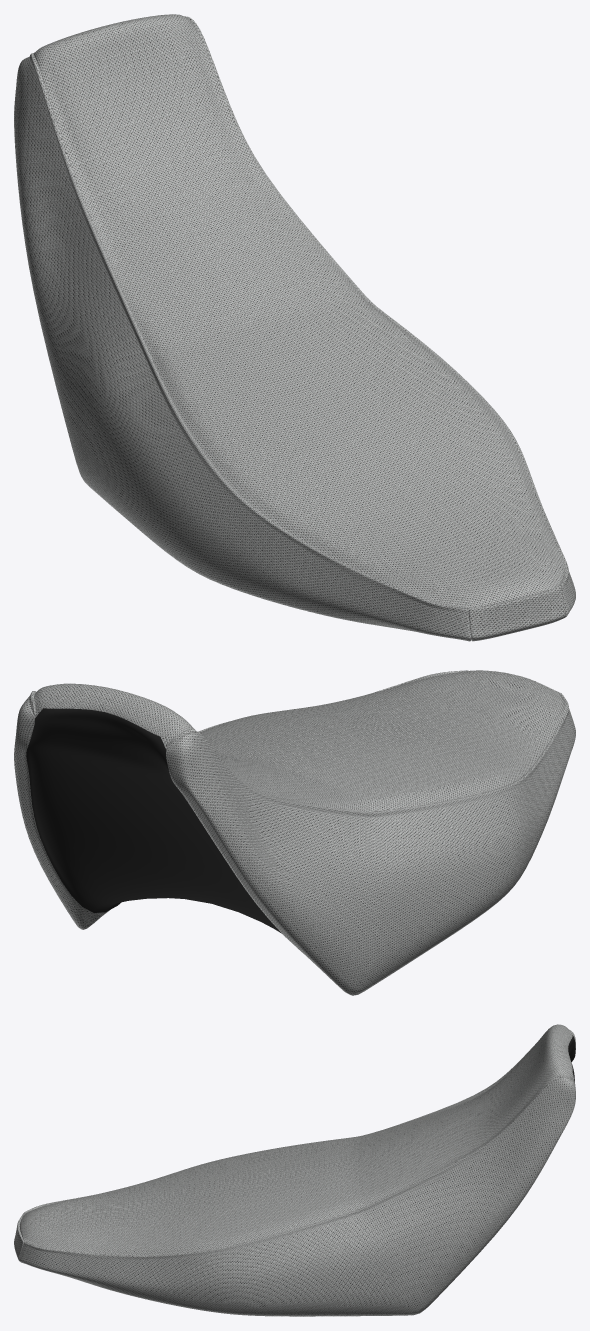
File: 363_MainSeat-841aad83.glb
3 views of the same model, one above another, from view 1: azimuth 30°, elevation 25°; view 2: azimuth 150°, elevation 25°; view 3: azimuth 270°, elevation 25° (orthographic). The views are drawn at different scales.
Parts seen in each view (by area): view 1: Seat; view 2: Seat; view 3: Seat.
Part boxes in pixels (x1,y1,x2,y2): Seat: (14,14,575,641); Seat: (14,670,575,995); Seat: (14,1024,575,1316).
Bounding box in the file's own units: 0.3174 × 0.3203 × 0.7062.
3 materials, 2 textured.
